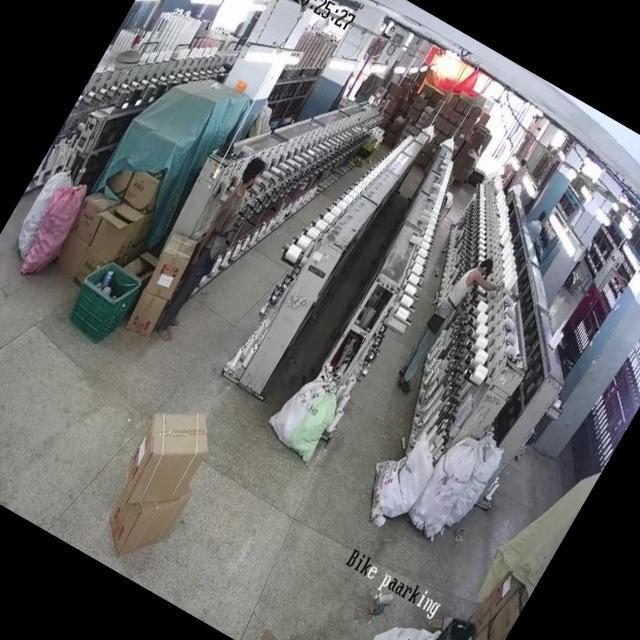person: (155, 154, 277, 338), (381, 247, 494, 410), (434, 184, 464, 222), (524, 206, 552, 239)
